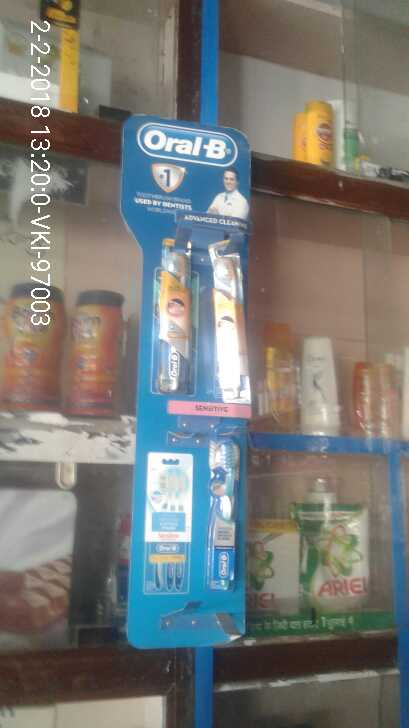home: (293, 504, 371, 614)
pharmacy: (204, 237, 251, 400), (156, 236, 195, 398), (208, 420, 238, 588)
